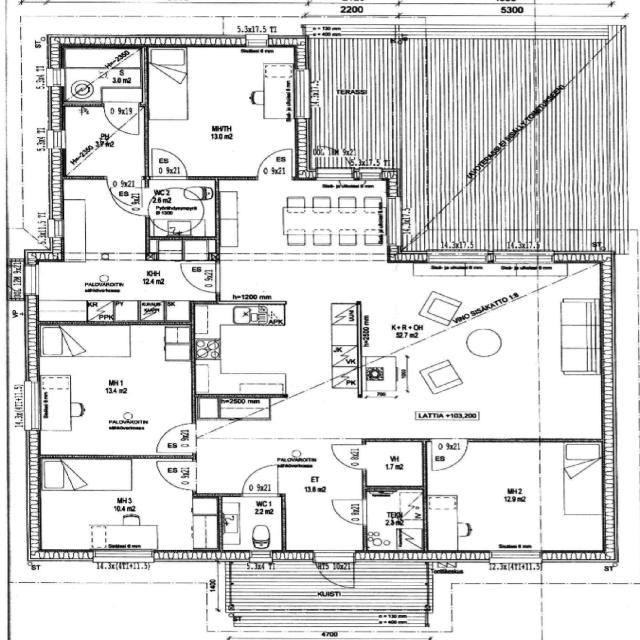door: (362, 488, 423, 548), (310, 550, 359, 594), (153, 455, 202, 493), (237, 461, 283, 498), (427, 437, 471, 474), (178, 259, 222, 295), (146, 145, 190, 181), (153, 421, 198, 456), (98, 99, 141, 135), (326, 495, 370, 529), (490, 246, 546, 272), (106, 179, 144, 216), (252, 146, 294, 179), (328, 441, 368, 472), (350, 167, 380, 184)
window: (418, 248, 494, 272), (20, 376, 45, 434), (92, 548, 155, 567), (312, 166, 359, 186), (21, 260, 41, 301), (242, 33, 271, 50), (53, 126, 69, 152), (52, 65, 68, 89), (56, 218, 68, 240)
zone: (372, 265, 604, 437), (33, 322, 193, 459), (424, 440, 610, 552), (144, 46, 301, 178), (31, 456, 210, 553), (191, 307, 357, 393), (32, 257, 200, 323), (445, 578, 544, 640), (62, 44, 148, 104), (144, 178, 219, 238), (218, 495, 284, 553), (363, 488, 425, 549), (362, 439, 426, 488), (152, 420, 198, 458), (212, 395, 276, 421), (144, 145, 194, 178)
